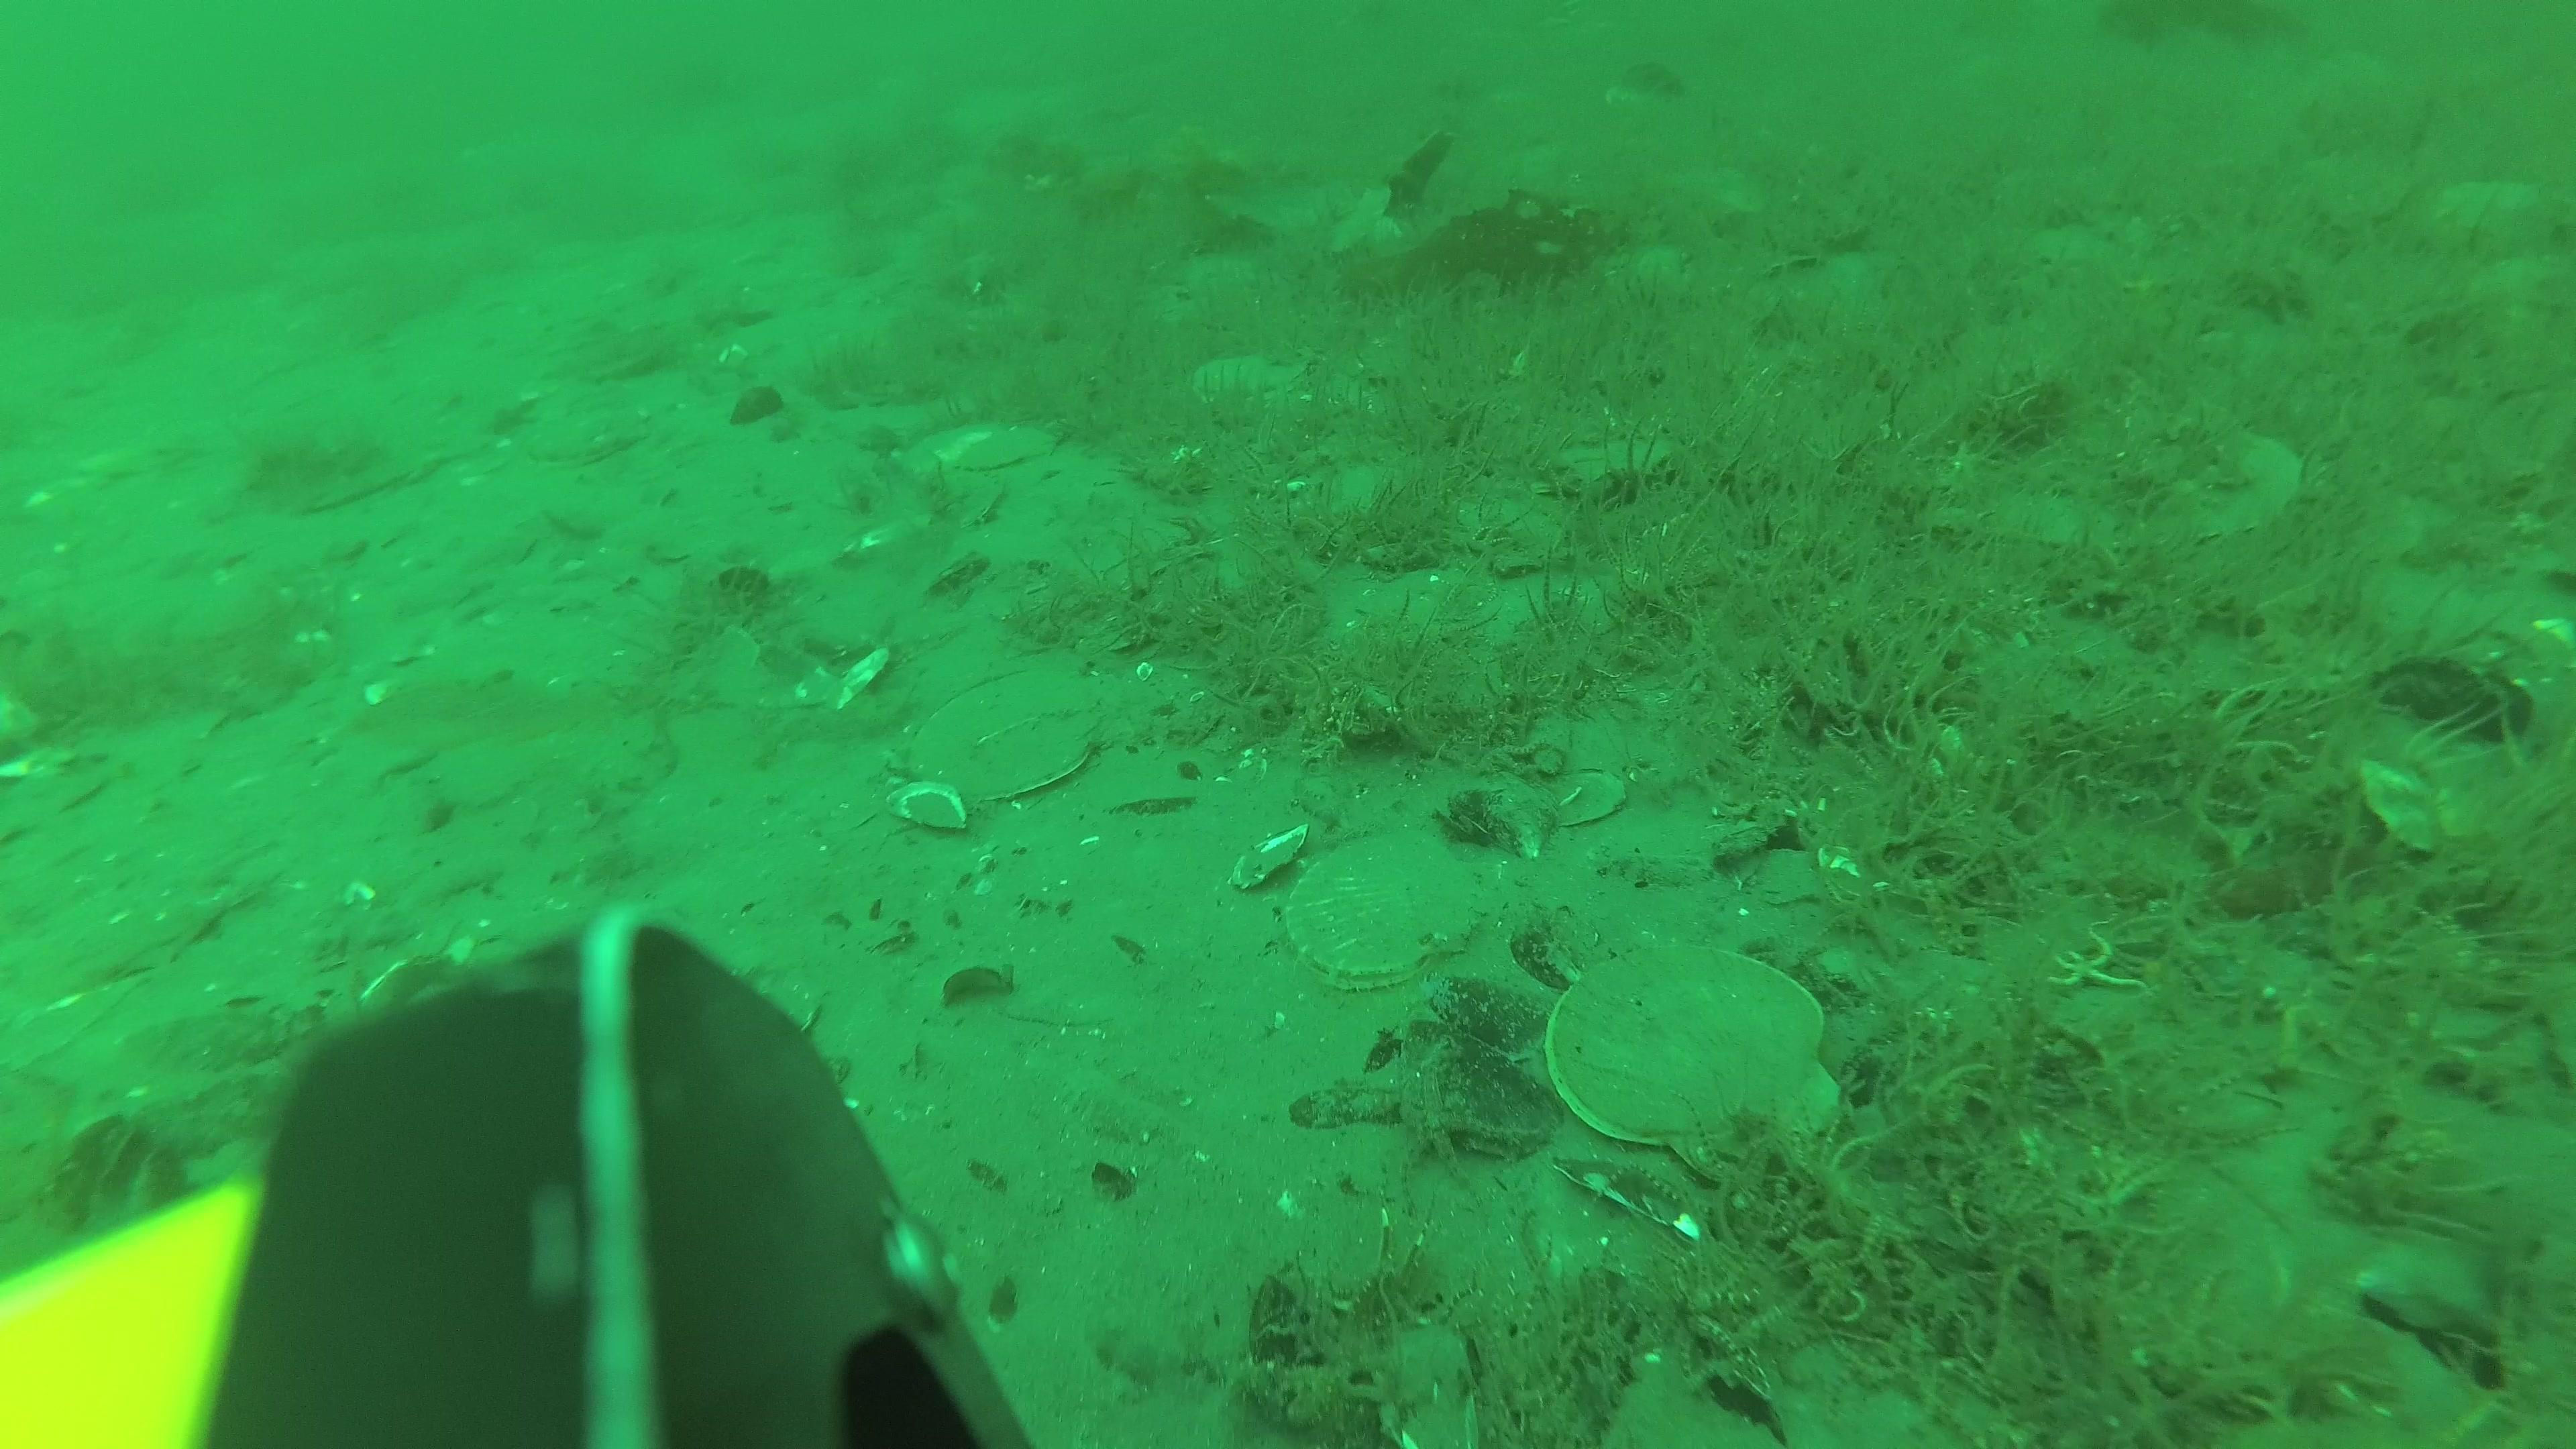scallop: (1546, 950, 1845, 1185), (1286, 833, 1491, 989), (916, 669, 1122, 800), (2173, 437, 2309, 541), (524, 382, 649, 469), (1191, 349, 1304, 414), (975, 425, 1053, 472), (911, 418, 978, 471)
